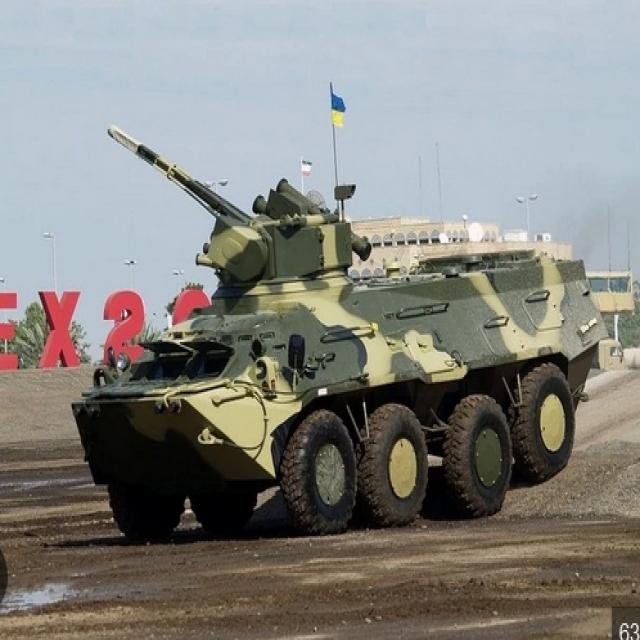MIL_APC: (66, 134, 617, 568)
